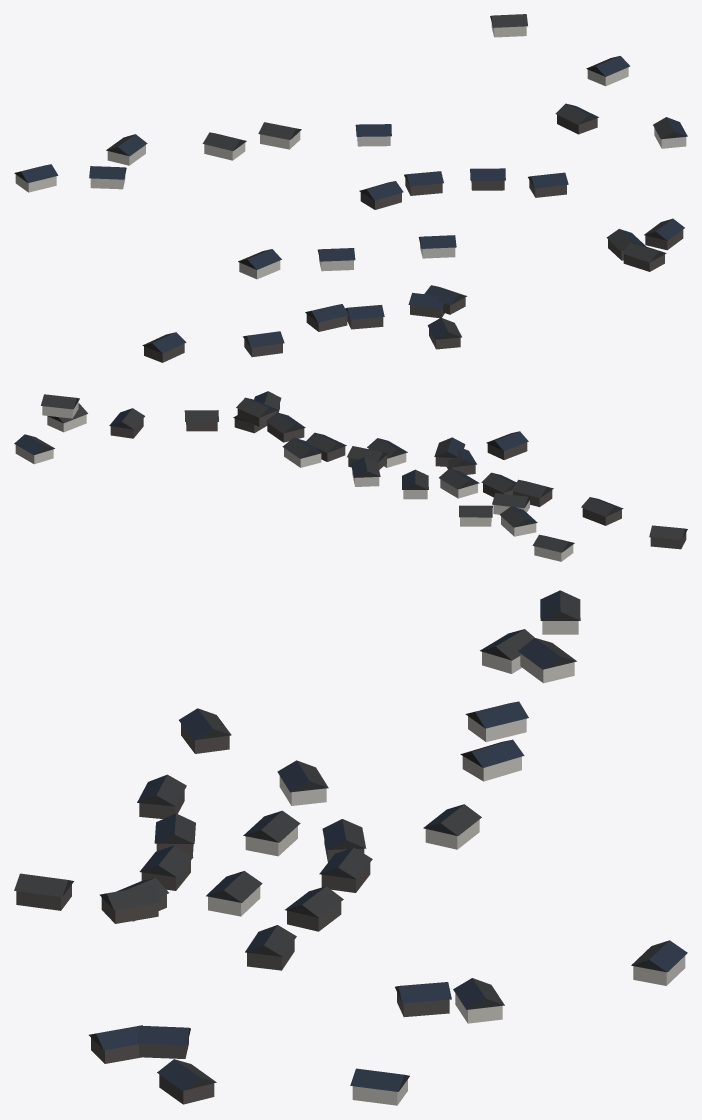
The model's file is houses_proposed.glb.
3 views of the same model, one above another, from view 1: azimuth 30°, elevation 25°; view 2: azimuth 150°, elevation 25°; view 3: azimuth 270°, elevation 25° (orthographic). The views are drawn at different scales.
Parts seen in each view (by area): view 1: plot-24-roof, plot-17-roof; view 2: plot-05-roof, plot-13-roof, plot-02-roof, plot-11-roof, plot-06-roof, plot-15-roof, plot-08-roof, plot-04-roof, plot-12-roof, plot-19-roof, plot-24-roof, plot-10-roof (+28 smaller); view 3: plot-01-roof, plot-19-roof, plot-12-roof, plot-14-roof, plot-09-roof, plot-10-roof, plot-20-roof, plot-21-roof, plot-07-roof, plot-18-roof, plot-08-roof, plot-15-roof (+23 smaller).
Part boxes in pixels (left/top/right/bottom): plot-24-roof: left=427, top=317, right=461, bottom=339; plot-17-roof: left=653, top=117, right=687, bottom=139; plot-05-roof: left=351, top=457, right=380, bottom=477; plot-13-roof: left=109, top=408, right=144, bottom=429; plot-02-roof: left=499, top=506, right=537, bottom=527; plot-11-roof: left=266, top=412, right=305, bottom=433; plot-06-roof: left=282, top=437, right=322, bottom=458; plot-15-roof: left=439, top=468, right=479, bottom=489; plot-08-roof: left=14, top=434, right=54, bottom=454; plot-04-roof: left=402, top=469, right=428, bottom=489; plot-12-roof: left=236, top=397, right=277, bottom=417; plot-19-roof: left=581, top=497, right=623, bottom=516; plot-24-roof: left=486, top=431, right=528, bottom=450; plot-10-roof: left=306, top=432, right=346, bottom=452; plot-01-roof: left=540, top=590, right=580, bottom=620; plot-19-roof: left=137, top=774, right=186, bottom=806; plot-12-roof: left=245, top=925, right=296, bottom=956; plot-14-roof: left=277, top=760, right=328, bottom=792; plot-09-roof: left=322, top=819, right=366, bottom=849; plot-10-roof: left=319, top=847, right=372, bottom=879; plot-20-roof: left=154, top=813, right=195, bottom=843; plot-21-roof: left=139, top=845, right=193, bottom=877; plot-07-roof: left=453, top=978, right=504, bottom=1009; plot-18-roof: left=179, top=708, right=231, bottom=740; plot-08-roof: left=631, top=940, right=687, bottom=972; plot-15-roof: left=243, top=810, right=300, bottom=842.
Size of the model in its own units: 234 by 41.51 by 158.
